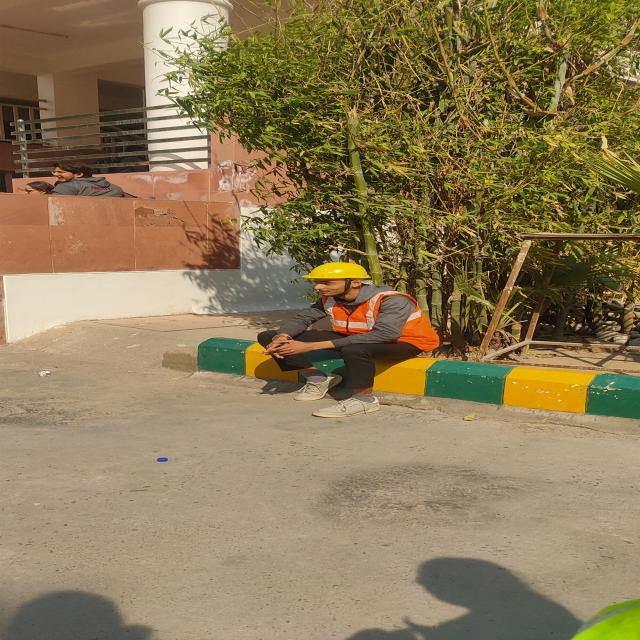safe: (257, 263, 438, 418)
unsafe: (52, 162, 123, 196)
